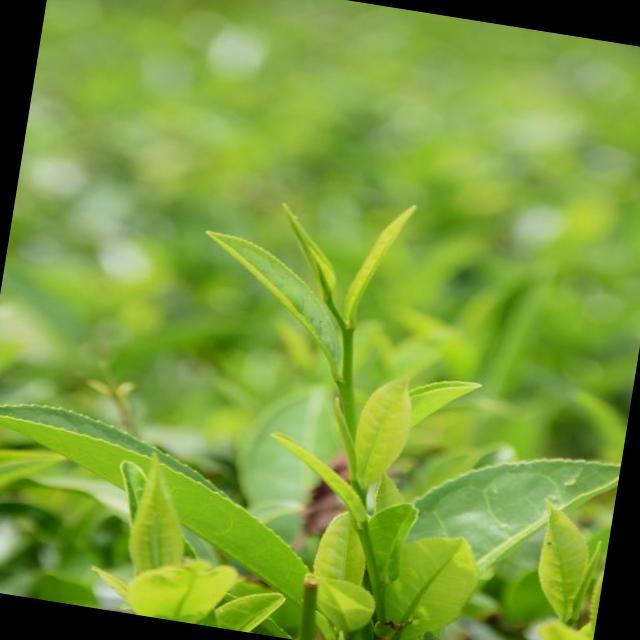Stem: (342, 330, 352, 348)
